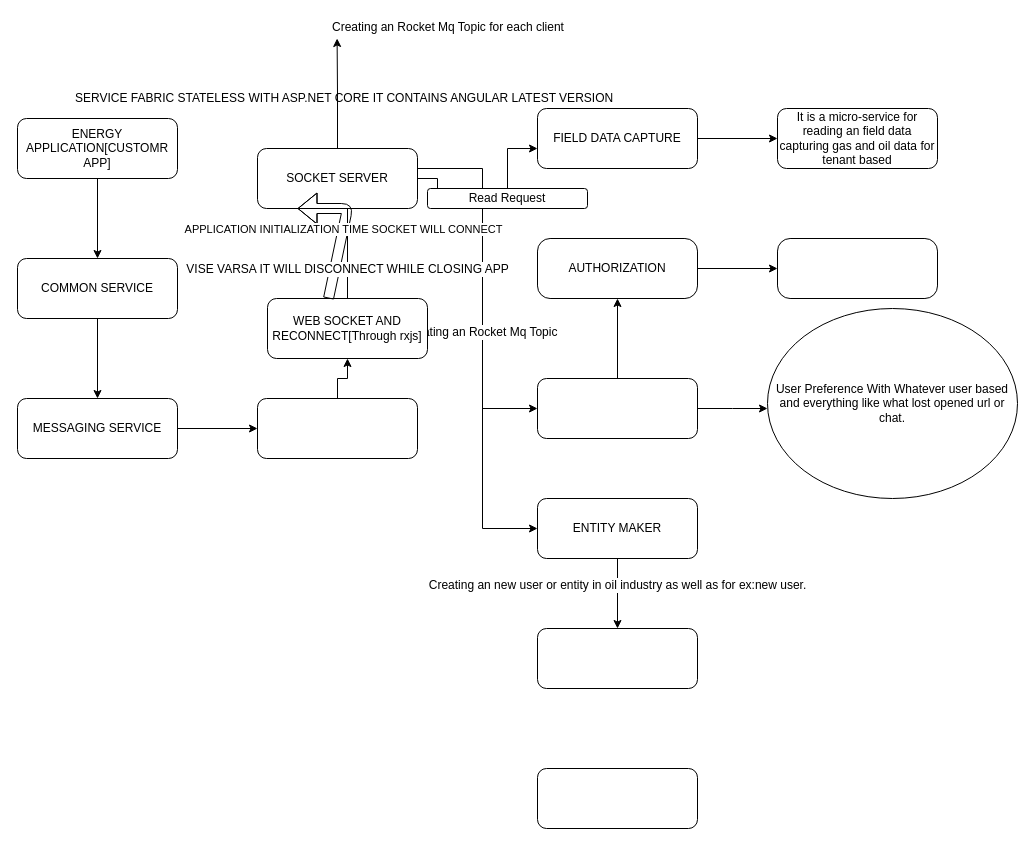
Some shapes in this 1035 by 846 pixel diagram are drawn without their labels. Here are the shapes that lost their labels. From the top down, the box of each, then its label:
(776, 238, 938, 298): This is used for login purpose as well as for permissions
(256, 398, 418, 458): WEB SOCKET AND RECONNECT
(536, 378, 698, 438): USER PREFERENCE
(536, 628, 698, 688): ENTITY ACTOR
(536, 768, 698, 828): PEOPLE CAPABILITY
